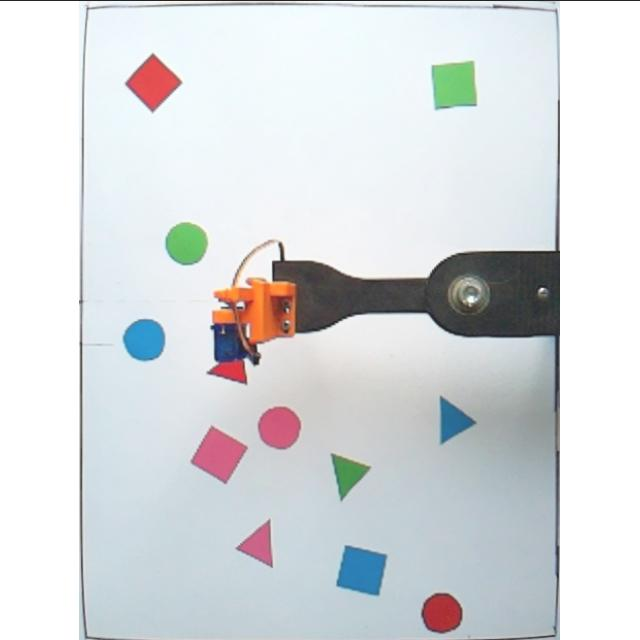blueCircle: (124, 316, 172, 364)
blueSquare: (336, 542, 390, 596)
blueTriangle: (436, 392, 482, 446)
greenCircle: (165, 219, 211, 265)
greenSquare: (430, 56, 480, 114)
greenTriangle: (328, 450, 374, 502)
pinkCircle: (258, 403, 304, 452)
pinkSquare: (190, 424, 250, 484)
pinkTriangle: (235, 517, 277, 569)
redCircle: (421, 589, 465, 635)
redSquare: (124, 48, 186, 115)
redTriangle: (206, 340, 254, 386)
